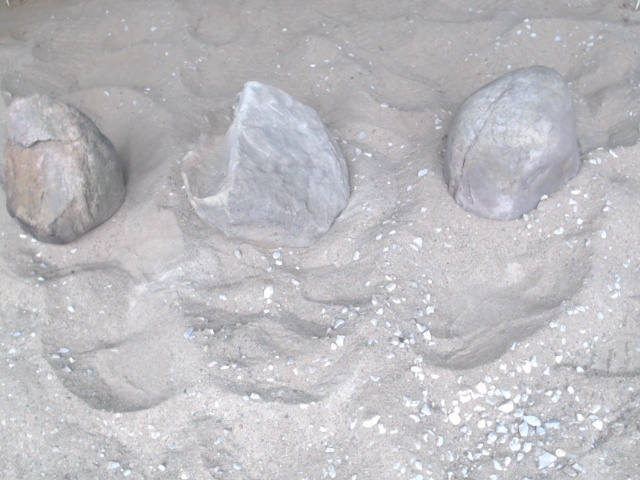rock: (174, 76, 356, 255), (437, 60, 588, 227), (1, 88, 132, 249)
